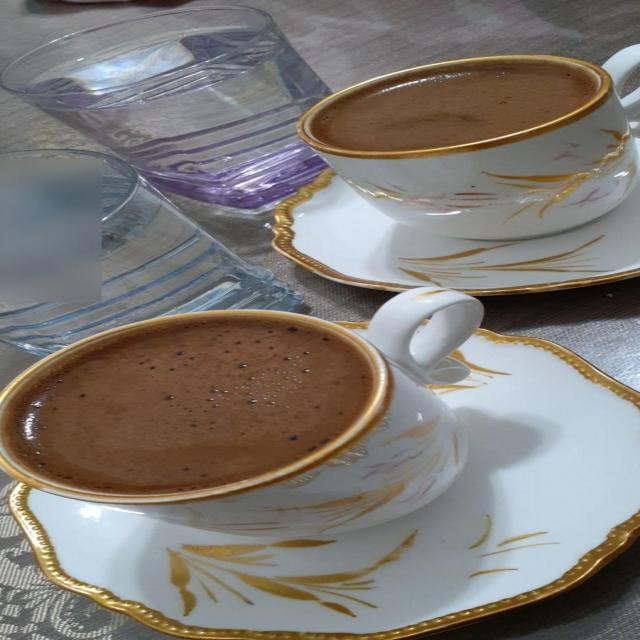cup-handle: (1, 287, 485, 542), (296, 52, 634, 241)
glass-normal: (2, 5, 340, 217)
